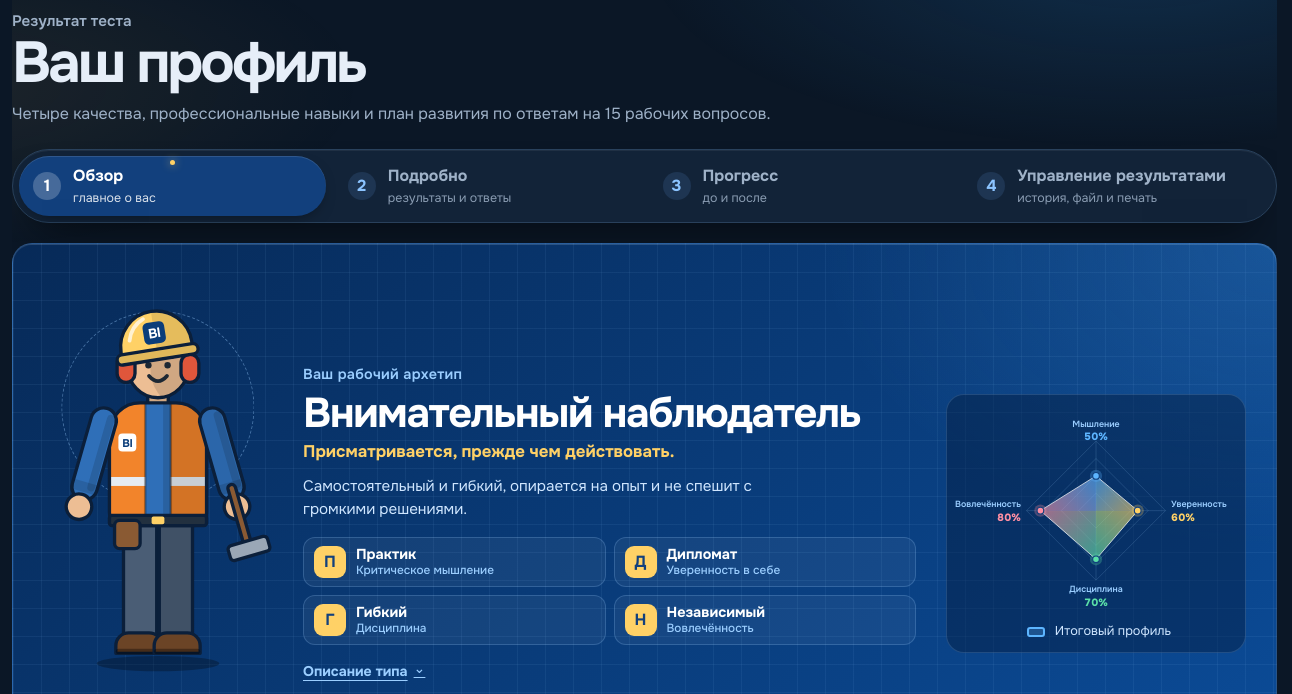
профиль сотрудника: обзор и подробности › прогресс: после первого прохождения — точка отсчёта и дата повторного теста
Click the tab "3 Прогресс до и после" at (740, 176), box [648, 156, 955, 216]
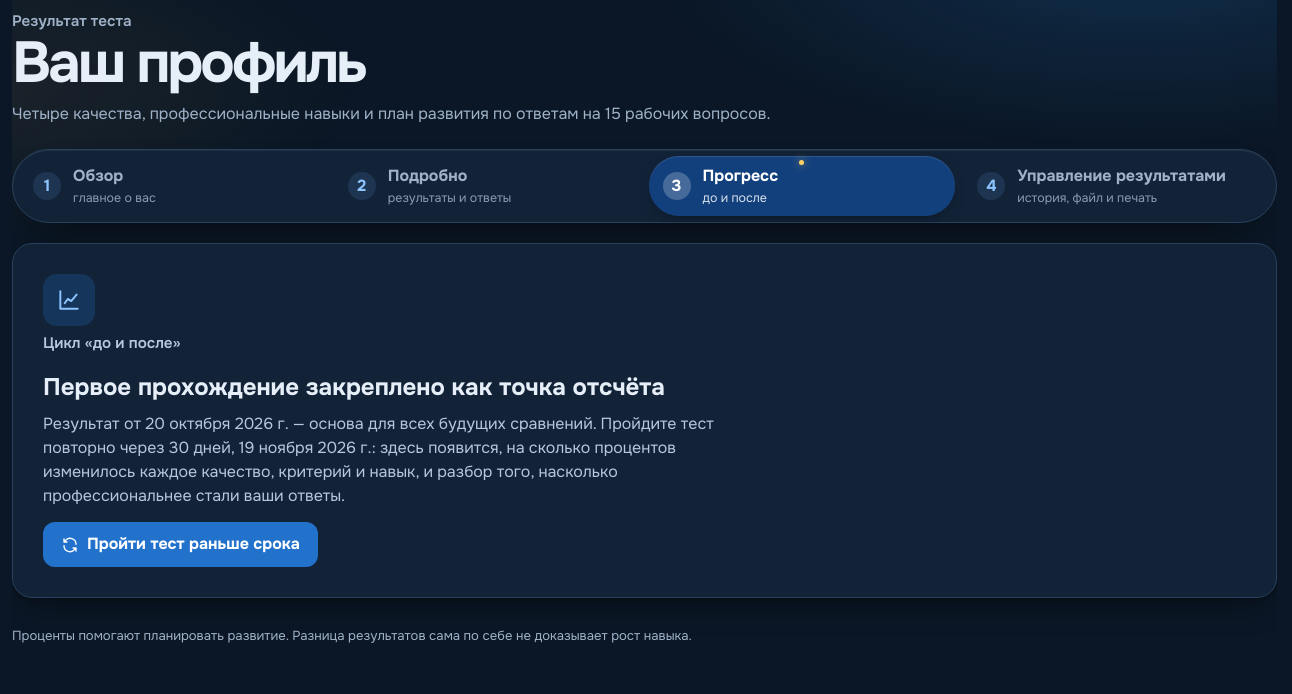
Check: the heading "Первое прохождение закреплено как точка отсчёта" is shown, box [43, 369, 665, 406]
Check: the text "Пройдите тест повторно через 30 дней, 19 ноября 2026 г." is shown, box [43, 413, 714, 506]
